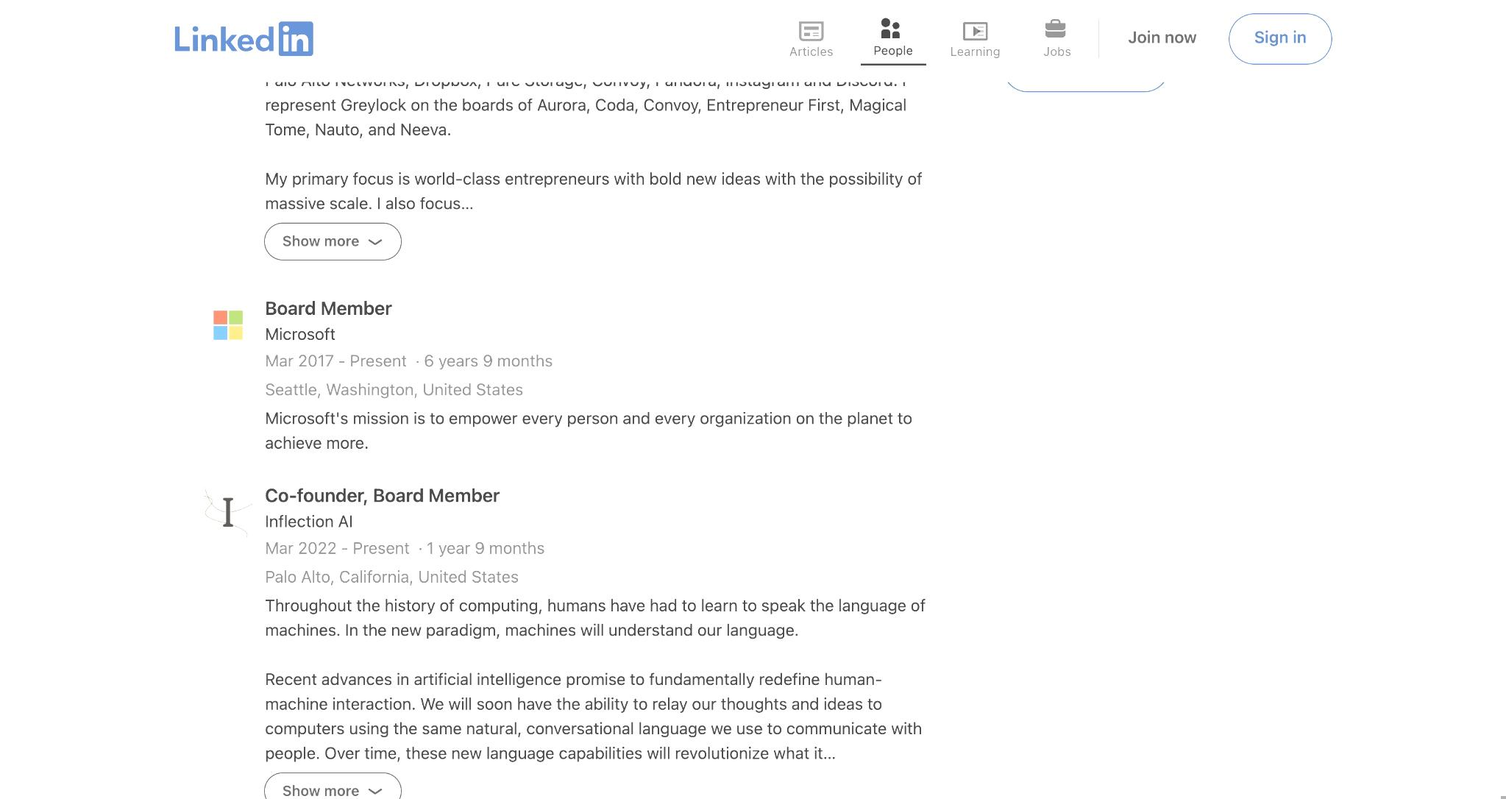webelement: (265, 18, 937, 259), (265, 592, 937, 799), (174, 0, 1331, 81), (265, 405, 937, 453), (199, 483, 260, 799), (265, 347, 937, 371), (265, 376, 937, 400), (265, 535, 937, 559), (265, 563, 937, 587), (199, 296, 260, 455), (1003, 41, 1169, 90), (1103, 14, 1221, 63), (265, 350, 553, 369), (265, 536, 544, 555), (264, 483, 499, 505), (1229, 14, 1330, 63), (174, 21, 313, 56), (264, 223, 401, 258), (264, 773, 401, 799), (777, 12, 843, 65), (941, 12, 1007, 65), (860, 12, 925, 65), (1024, 12, 1089, 65), (199, 296, 257, 353), (199, 482, 257, 539), (265, 296, 391, 318), (411, 350, 552, 369), (413, 536, 544, 555), (265, 510, 353, 529), (265, 323, 335, 342), (950, 43, 1000, 58), (789, 43, 832, 58), (798, 19, 822, 43), (962, 19, 986, 43), (873, 43, 913, 57), (1044, 43, 1071, 58), (880, 18, 899, 38), (1044, 19, 1064, 37), (366, 233, 383, 249), (366, 783, 383, 799)
